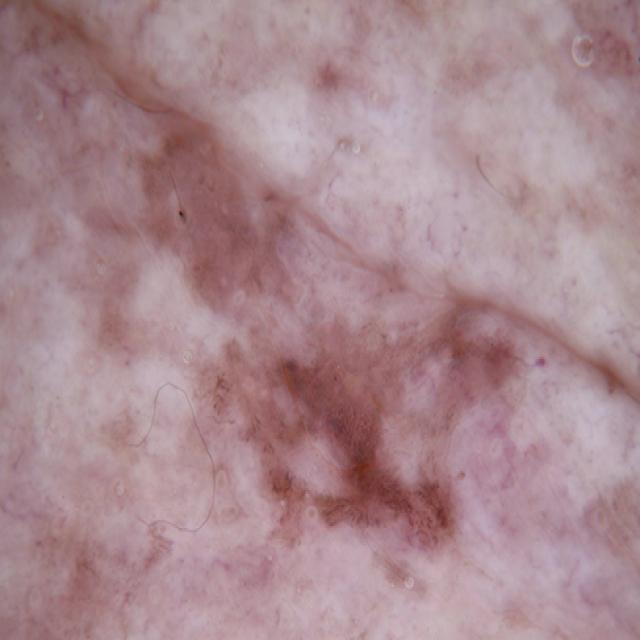Keratosis: (64, 62, 599, 595)
